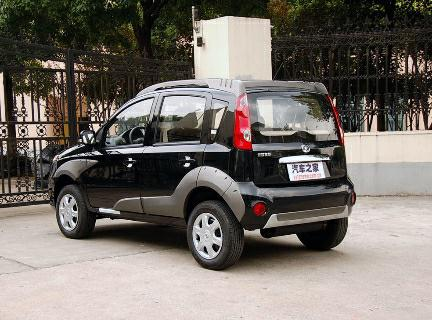长城-M1: (38, 74, 367, 282)
